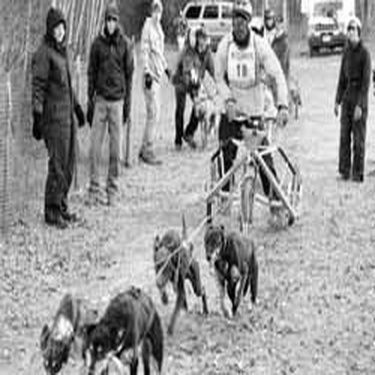dog: (81, 285, 165, 372), (196, 215, 263, 322), (151, 242, 210, 338), (38, 290, 95, 373), (151, 210, 190, 304)
